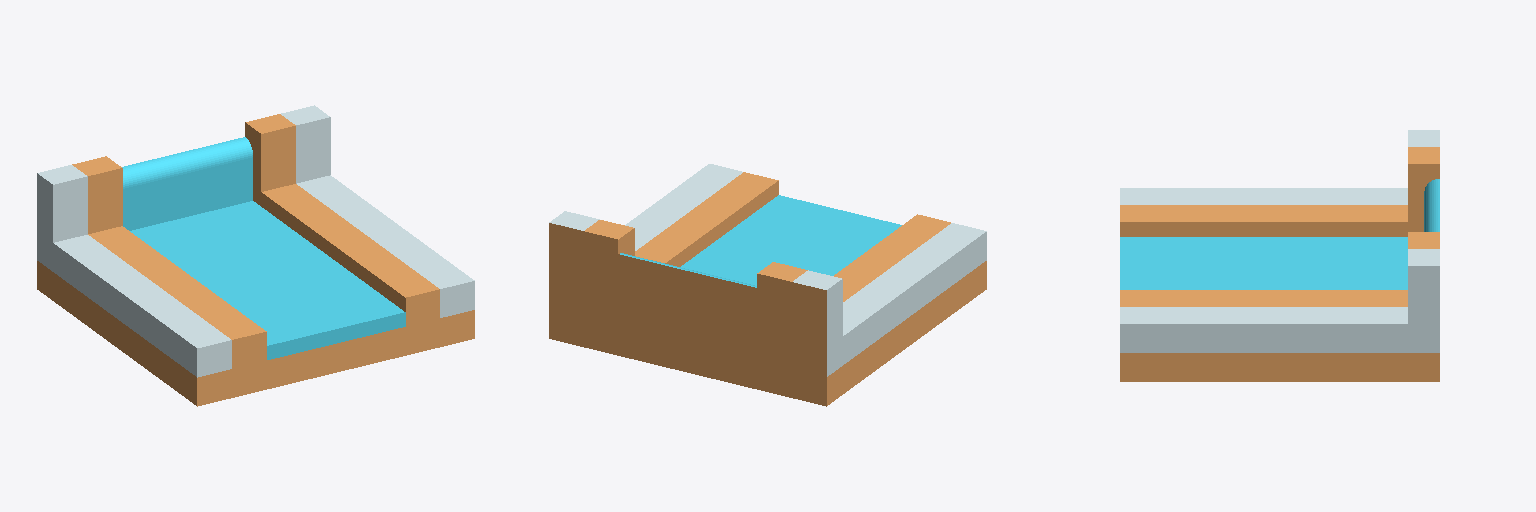
The picture shows the model from 3 angles: view 1: azimuth 30°, elevation 25°; view 2: azimuth 150°, elevation 25°; view 3: azimuth 270°, elevation 25°; orthographic projection.
Parts seen in each view (by area): view 1: snow_tile_riverFall; view 2: snow_tile_riverFall; view 3: snow_tile_riverFall.
Boxes of the visible parts, x1,y1,x2,y2 form: snow_tile_riverFall: [37, 105, 474, 406]; snow_tile_riverFall: [549, 164, 986, 406]; snow_tile_riverFall: [1120, 130, 1439, 381].
Size of the model in its own units: 1 by 0.4 by 1.